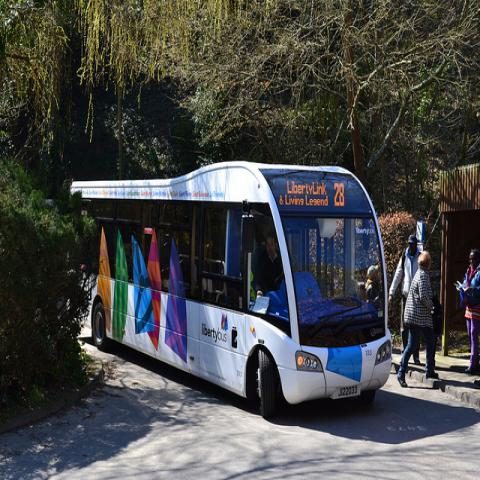bus: (71, 160, 392, 418)
